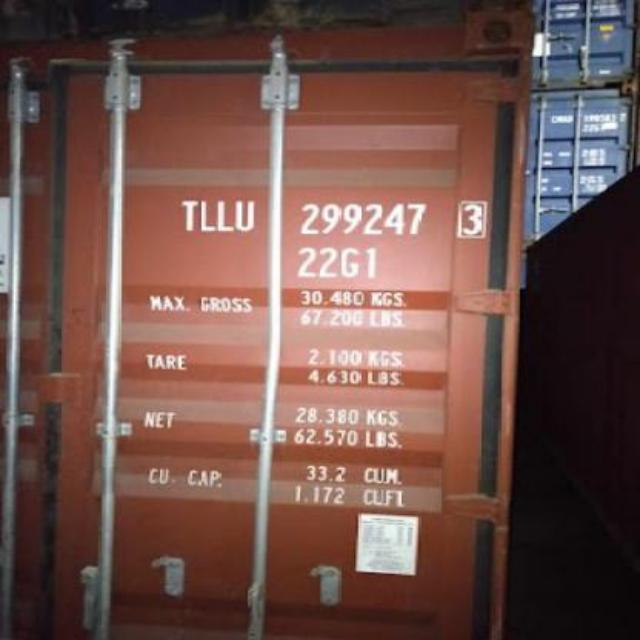2: (358, 190, 384, 240), (298, 196, 318, 238)
3: (456, 198, 482, 238)
4: (384, 194, 404, 238)
7: (406, 191, 428, 237)
9: (316, 195, 338, 239), (338, 194, 359, 238)
L: (214, 193, 234, 237), (198, 194, 218, 236)
T: (179, 190, 195, 237)
U: (232, 194, 256, 236)
